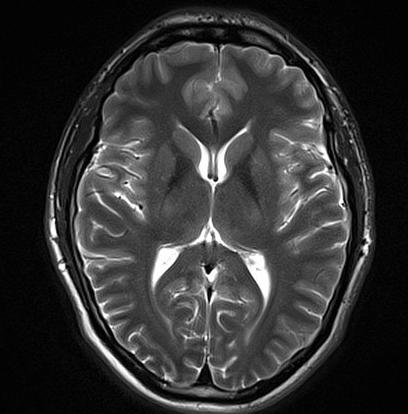Normal_Brain: (1, 1, 408, 414)
